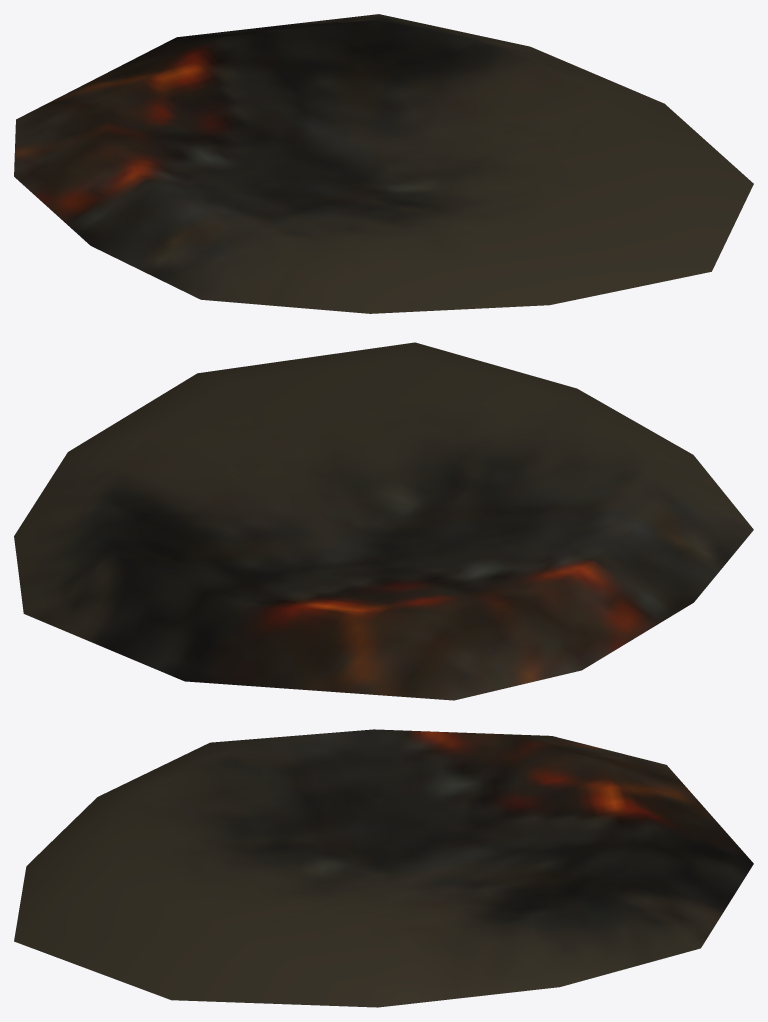
File: crater_03.FBX
3 renders of one model, top to bottom at view 1: azimuth 30°, elevation 25°; view 2: azimuth 150°, elevation 25°; view 3: azimuth 270°, elevation 25°, orthographic. The views are drawn at different scales.
Visible parts, largest first — view 1: Cylinder007; view 2: Cylinder007; view 3: Cylinder007.
Part boxes in pixels (box(x1,y1,x2,y2)): Cylinder007: box(14, 14, 753, 313); Cylinder007: box(14, 342, 753, 700); Cylinder007: box(14, 729, 753, 1007).
Bounding box in the file's own units: 353 × 22 × 397.
